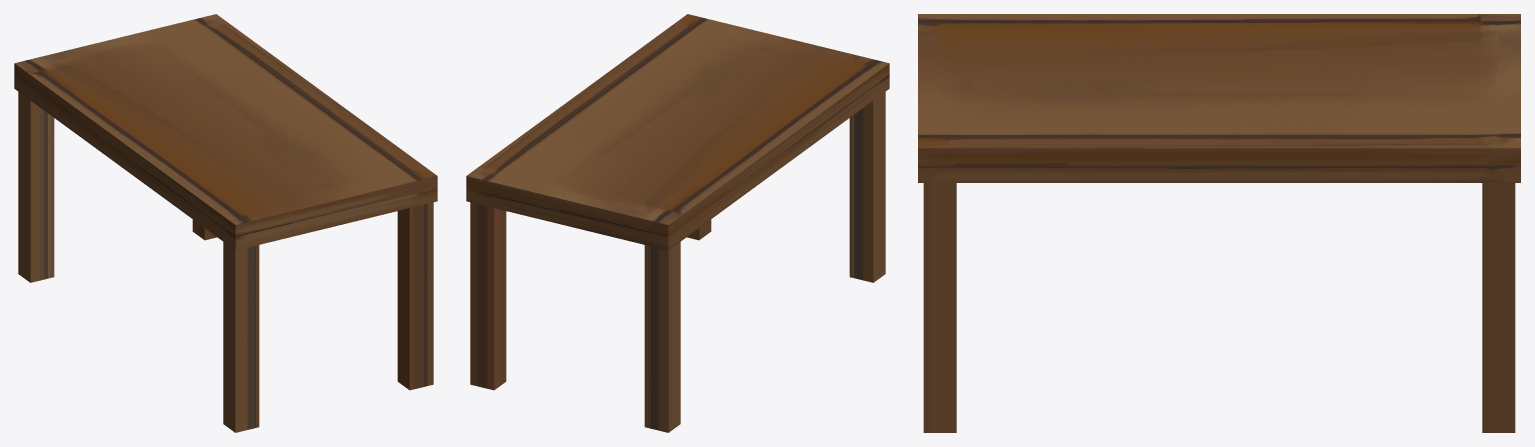
The model's file is Table.fbx.
The picture shows the model from 3 angles, left to right: view 1: azimuth 30°, elevation 25°; view 2: azimuth 150°, elevation 25°; view 3: azimuth 270°, elevation 25°; orthographic projection. The views are drawn at different scales.
Parts seen in each view (by area): view 1: Table; view 2: Table; view 3: Table.
Boxes of the visible parts, <box> form: Table: <box>14,14,437,432</box>; Table: <box>466,14,889,432</box>; Table: <box>918,14,1520,432</box>.
Size of the model in its own units: 229 by 227 by 434.
Materials: 1 (1 with a texture image).
